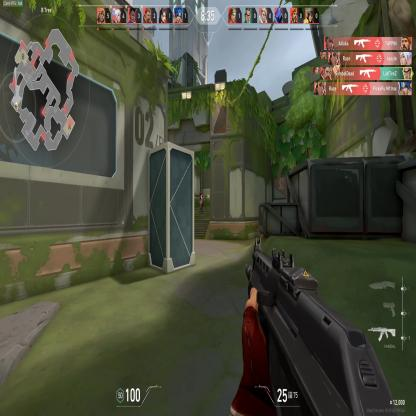enemy: (198, 191, 204, 214)
